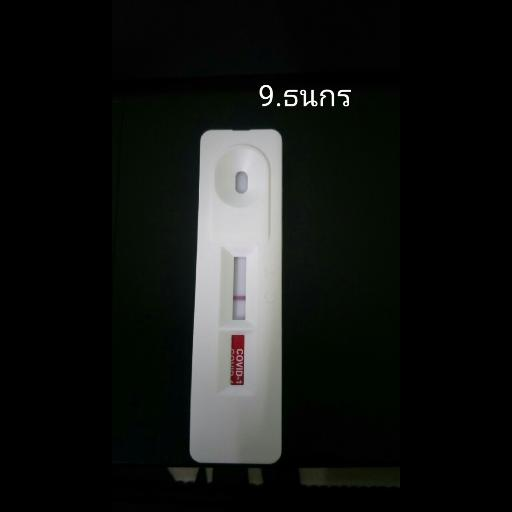Neg: (192, 128, 282, 464)
